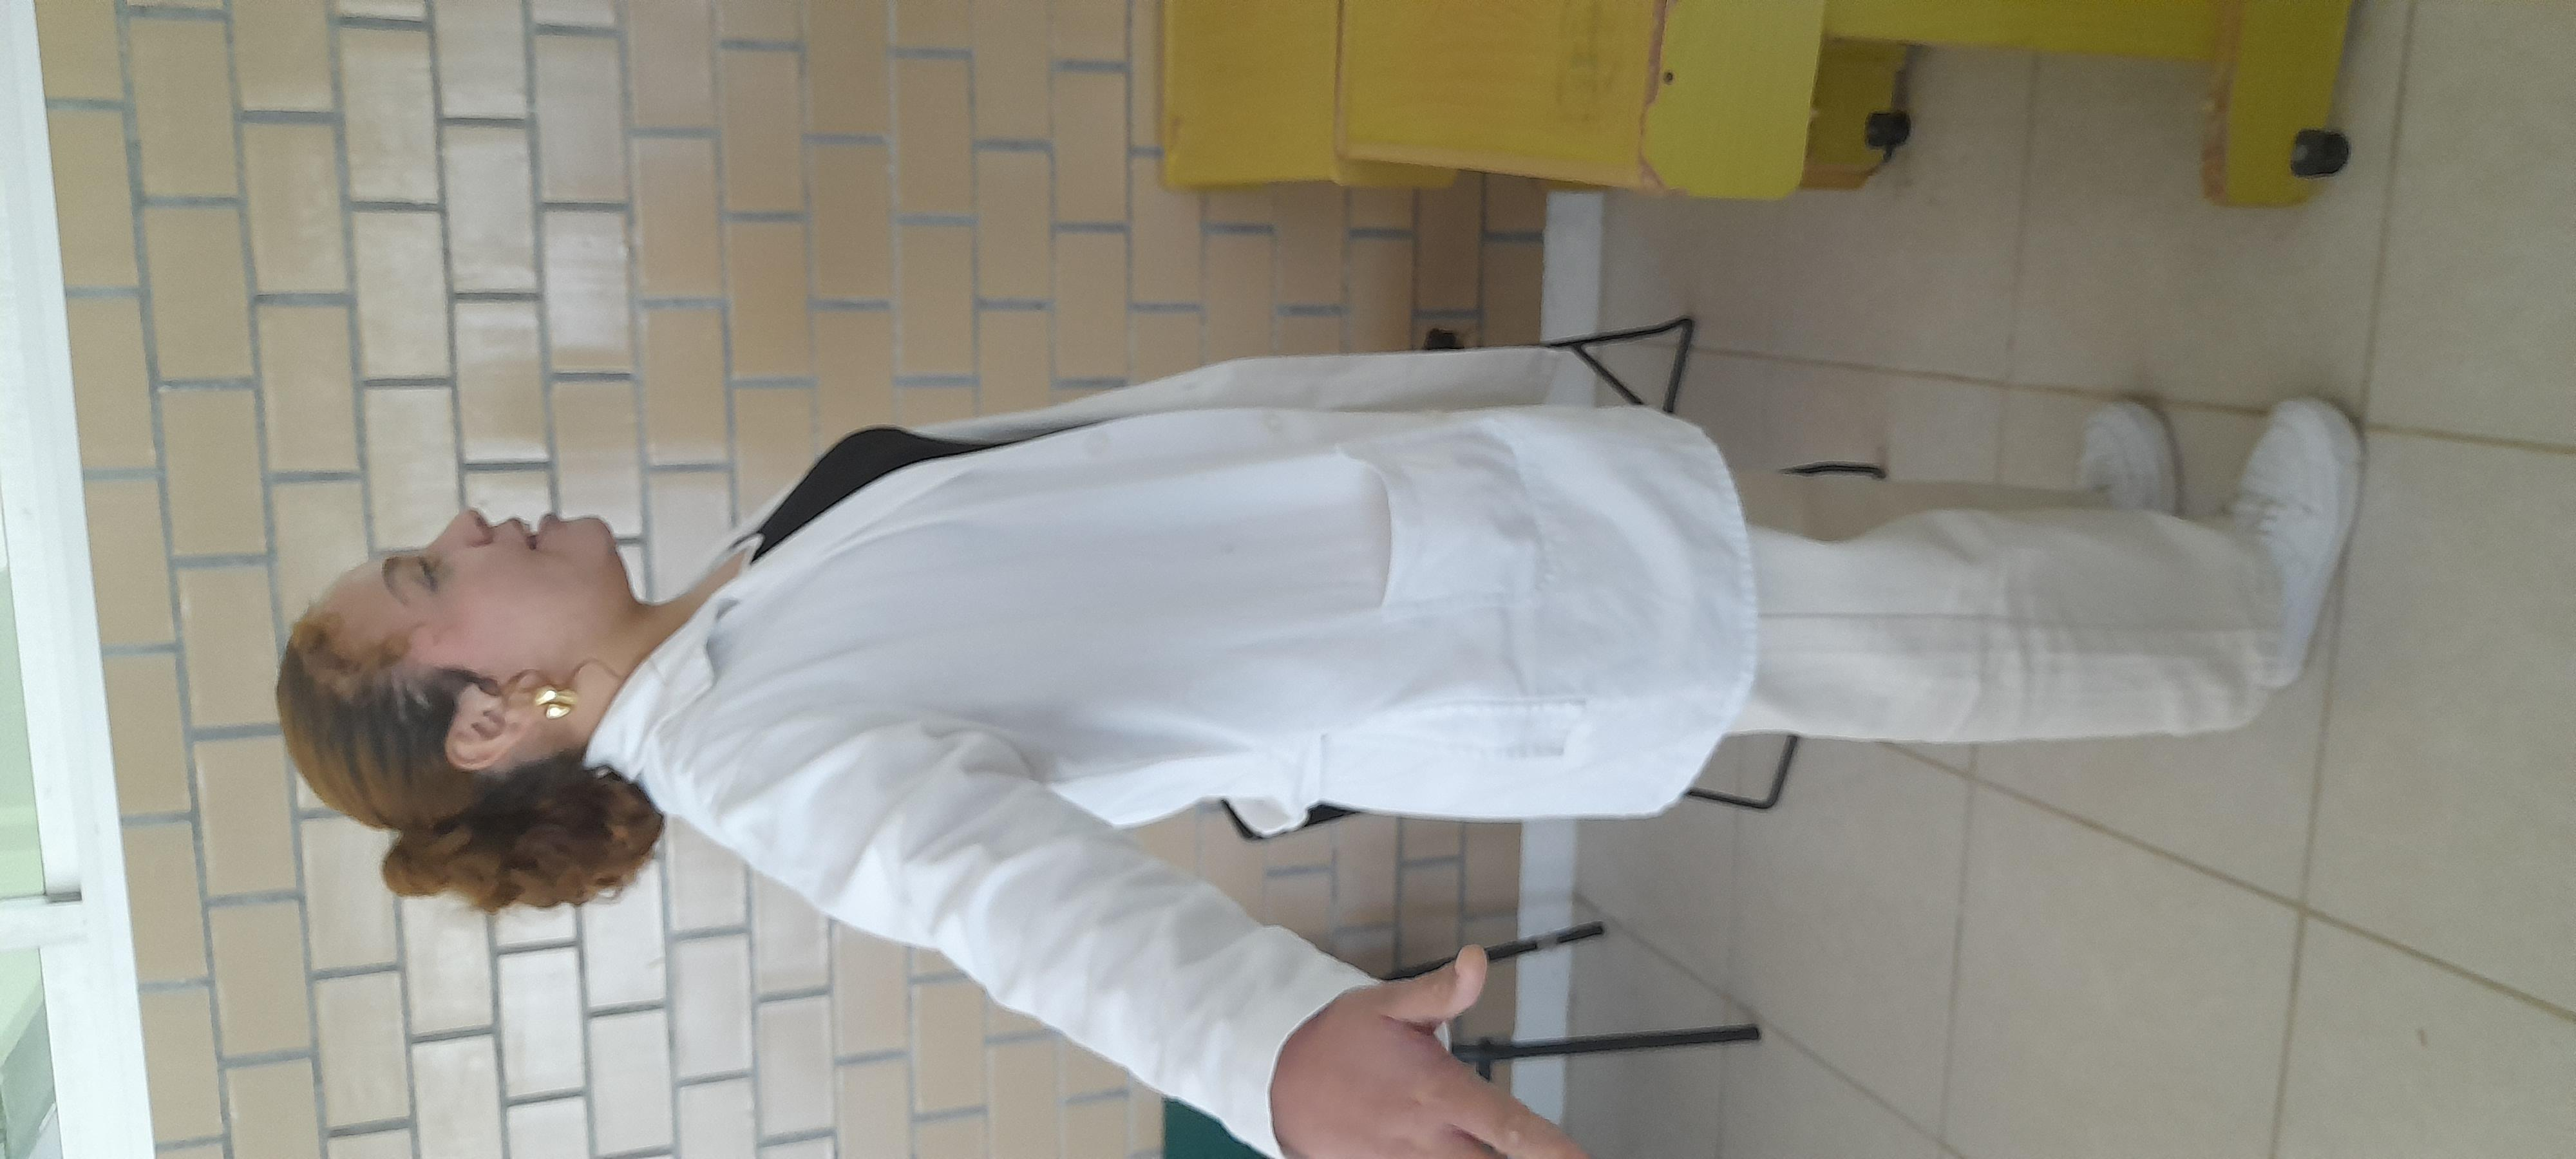Bata-Incorrecta: (15, 107, 1947, 1087)
